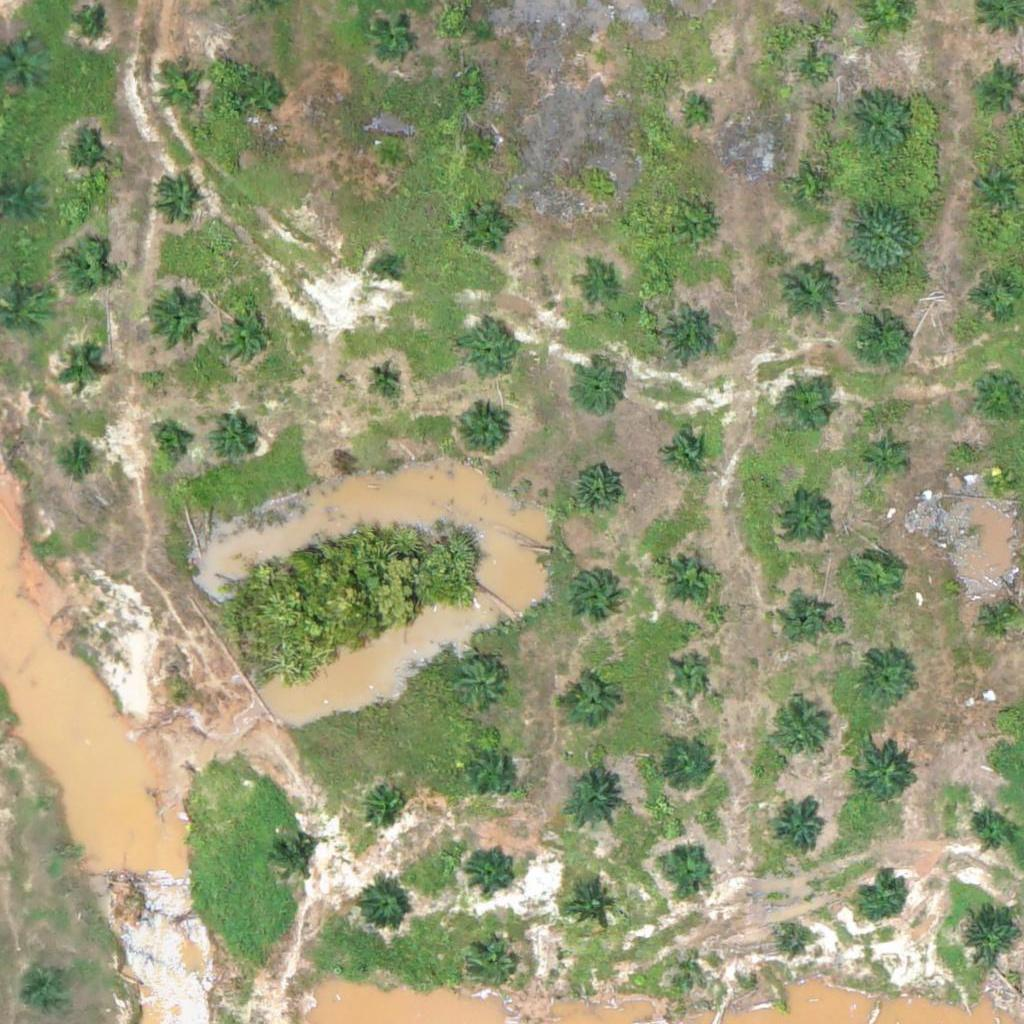Kelapa_Sawit: (841, 85, 916, 161), (845, 303, 920, 379), (845, 199, 920, 275), (774, 258, 837, 321), (562, 772, 625, 835), (659, 304, 722, 367), (213, 305, 276, 368), (853, 738, 915, 801), (771, 701, 833, 764), (850, 648, 912, 711), (453, 401, 515, 464), (657, 543, 719, 606), (457, 319, 519, 382), (956, 903, 1018, 966), (147, 287, 209, 350), (243, 70, 293, 121), (660, 839, 710, 890), (664, 740, 714, 791), (562, 677, 612, 728), (573, 363, 623, 414), (456, 662, 506, 713), (467, 745, 517, 796), (467, 843, 517, 894), (567, 882, 617, 933), (570, 464, 620, 515), (661, 428, 711, 479), (463, 200, 513, 251), (156, 64, 206, 115), (775, 805, 825, 855), (856, 872, 906, 922), (782, 589, 832, 639), (785, 383, 835, 433), (781, 493, 831, 543), (971, 366, 1021, 416), (970, 270, 1020, 320), (848, 549, 898, 599), (567, 567, 617, 617), (358, 883, 408, 933), (27, 961, 77, 1011), (967, 809, 1017, 859), (469, 944, 519, 994), (361, 779, 411, 829), (270, 835, 320, 885), (972, 156, 1022, 206), (64, 135, 114, 185), (62, 244, 112, 294), (151, 177, 201, 227), (211, 413, 261, 463), (371, 10, 421, 60), (863, 439, 901, 477), (576, 269, 614, 307), (61, 349, 99, 387), (62, 440, 100, 478), (149, 423, 187, 461), (681, 212, 718, 250), (670, 656, 707, 694), (368, 360, 405, 398), (372, 136, 410, 173), (2, 182, 39, 220), (465, 130, 502, 168), (803, 176, 828, 202), (781, 925, 806, 950), (801, 59, 826, 84), (684, 102, 709, 127), (984, 467, 1009, 492), (991, 702, 1016, 727), (374, 257, 399, 282), (81, 11, 106, 36), (590, 47, 615, 72), (686, 959, 711, 984)
